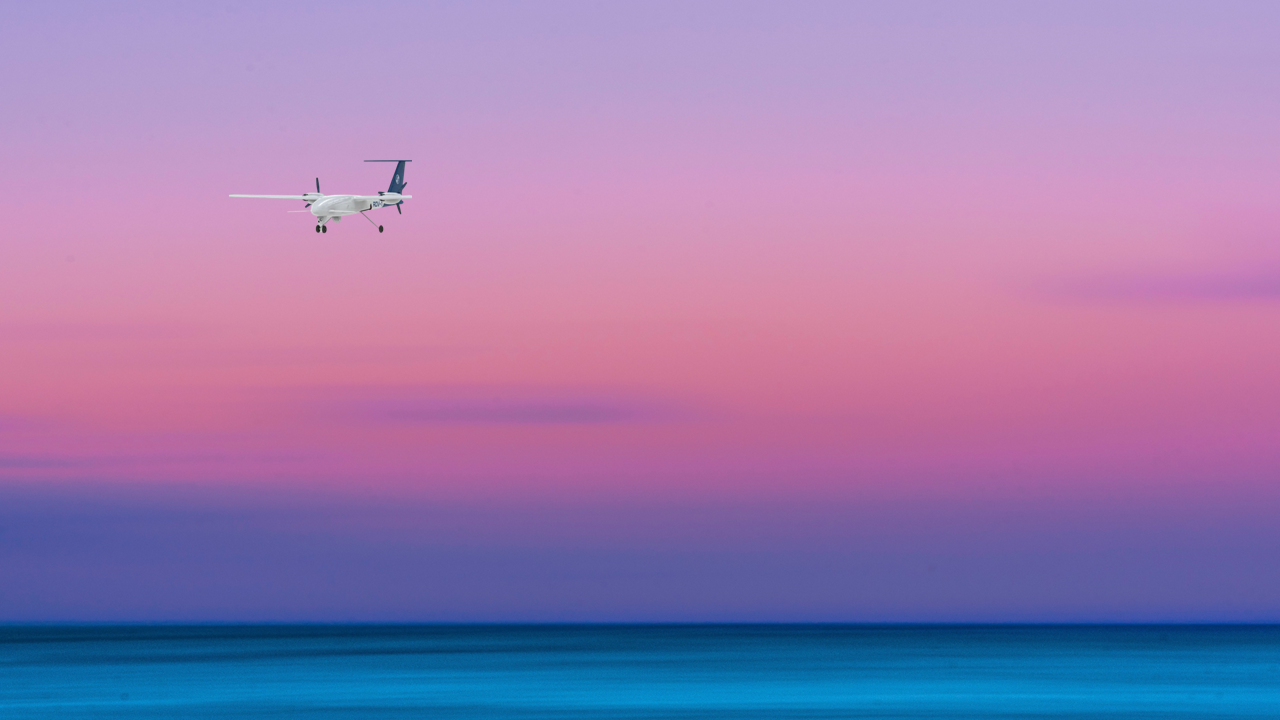military drone: (228, 159, 412, 233)
